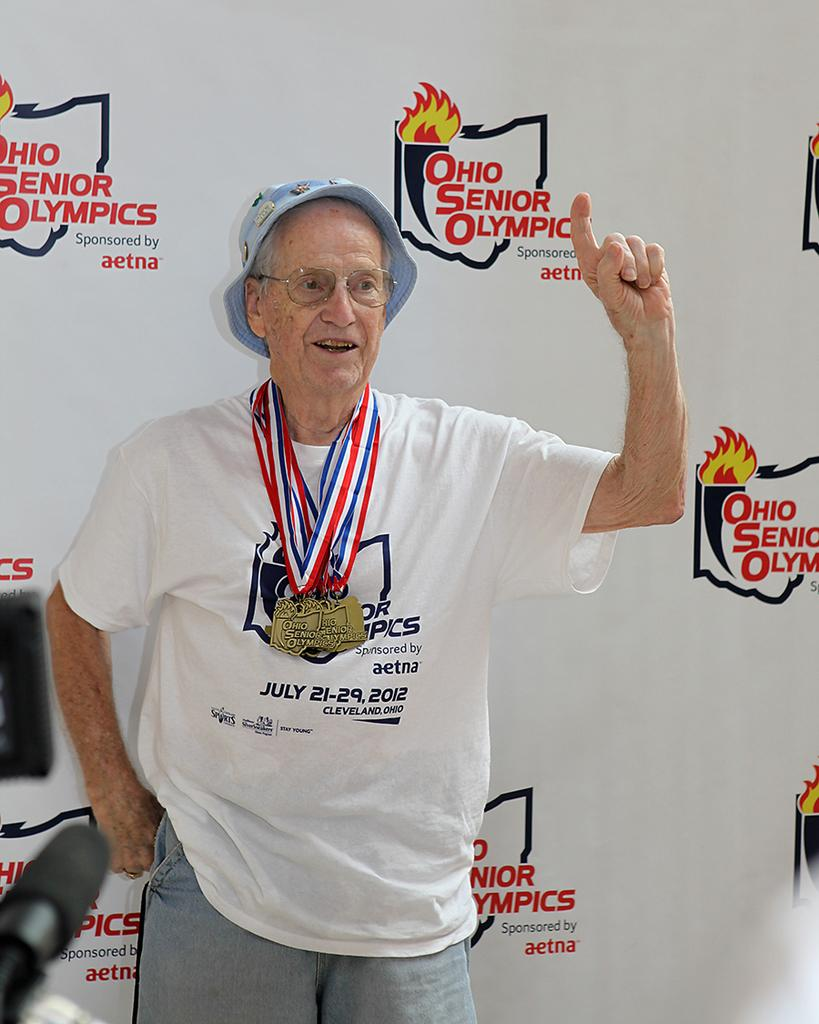no_helmet: (260, 160, 400, 246)
none: (176, 402, 488, 908)
